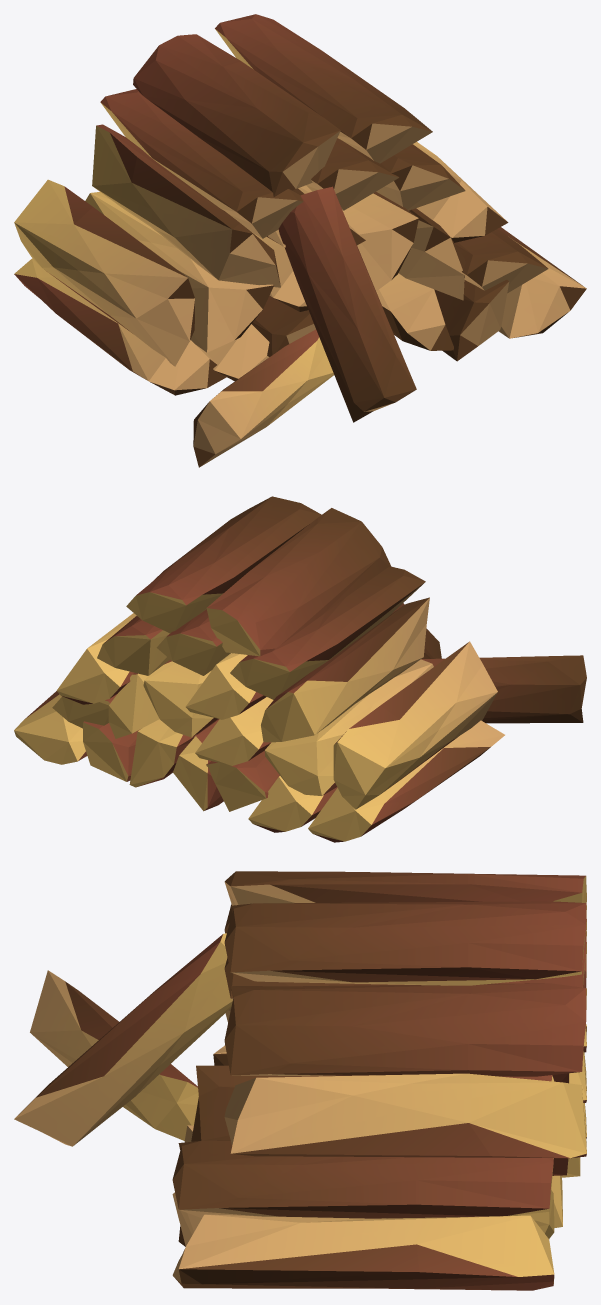
Rendered from choppedwood.glb.
3 renders of one model, top to bottom at view 1: azimuth 30°, elevation 25°; view 2: azimuth 150°, elevation 25°; view 3: azimuth 270°, elevation 25°, orthographic. The views are drawn at different scales.
Parts seen in each view (by area): view 1: ChoppedWood_mesh1; view 2: ChoppedWood_mesh1; view 3: ChoppedWood_mesh1.
Part boxes in pixels (bbox=[...]): ChoppedWood_mesh1: bbox=[14, 14, 586, 467]; ChoppedWood_mesh1: bbox=[14, 496, 586, 842]; ChoppedWood_mesh1: bbox=[14, 871, 586, 1290].
Bounding box in the file's own units: 1.16 × 0.613 × 1.06.
Materials: 1 (1 with a texture image).
